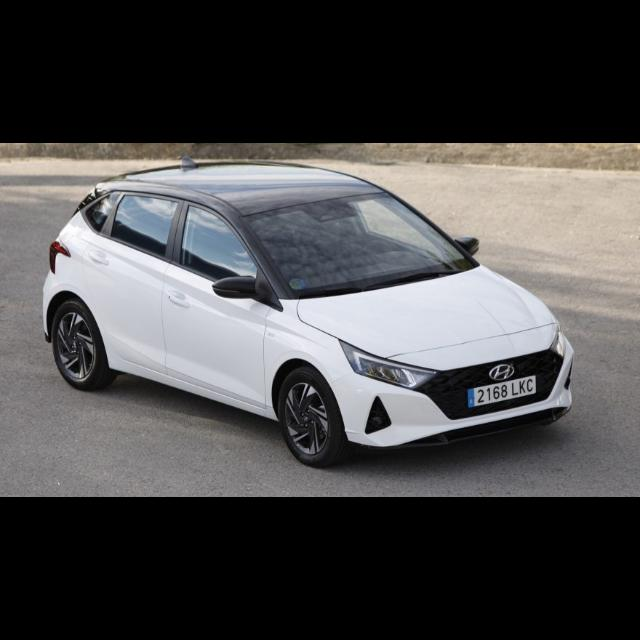number-plate: (469, 375, 535, 405)
vehicles: (40, 156, 578, 464)
